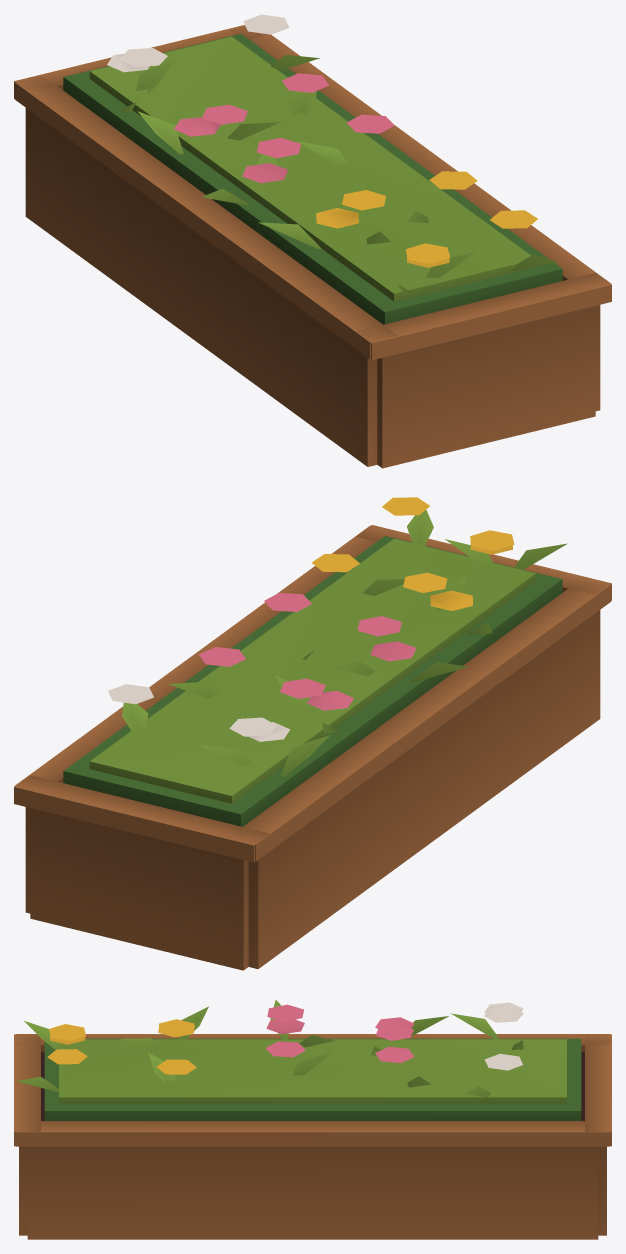
3 views of the same model, one above another, from view 1: azimuth 30°, elevation 25°; view 2: azimuth 150°, elevation 25°; view 3: azimuth 270°, elevation 25° (orthographic). The views are drawn at different scales.
Parts seen in each view (by area): view 1: root_pal_woodWarm, root_pal_foliage, root_pal_foliageDark, root_pal_flamingoPink, root_pal_schoolBusYellow, root_pal_picketWhite; view 2: root_pal_woodWarm, root_pal_foliage, root_pal_foliageDark, root_pal_flamingoPink, root_pal_schoolBusYellow, root_pal_picketWhite; view 3: root_pal_woodWarm, root_pal_foliage, root_pal_foliageDark, root_pal_flamingoPink, root_pal_schoolBusYellow, root_pal_picketWhite, root_pal_hairChestnut.
Boxes of the visible parts, left/top/right/bottom form: root_pal_woodWarm: left=14, top=25, right=611, bottom=468; root_pal_foliage: left=89, top=36, right=557, bottom=301; root_pal_foliageDark: left=63, top=33, right=562, bottom=324; root_pal_flamingoPink: left=174, top=73, right=394, bottom=183; root_pal_schoolBusYellow: left=316, top=171, right=537, bottom=267; root_pal_picketWhite: left=107, top=14, right=289, bottom=72; root_pal_woodWarm: left=14, top=525, right=611, bottom=970; root_pal_foliage: left=89, top=510, right=567, bottom=803; root_pal_foliageDark: left=63, top=536, right=562, bottom=826; root_pal_flamingoPink: left=199, top=593, right=416, bottom=710; root_pal_schoolBusYellow: left=311, top=497, right=514, bottom=610; root_pal_picketWhite: left=108, top=684, right=290, bottom=741; root_pal_woodWarm: left=14, top=1034, right=611, bottom=1239; root_pal_foliage: left=16, top=999, right=566, bottom=1103; root_pal_foliageDark: left=44, top=1038, right=581, bottom=1120; root_pal_flamingoPink: left=266, top=1004, right=414, bottom=1063; root_pal_schoolBusYellow: left=47, top=1019, right=196, bottom=1074; root_pal_picketWhite: left=484, top=1002, right=523, bottom=1070; root_pal_hairChestnut: left=41, top=1052, right=584, bottom=1120.
Bounding box in the file's own units: 0.8606 × 0.6174 × 2.1.
